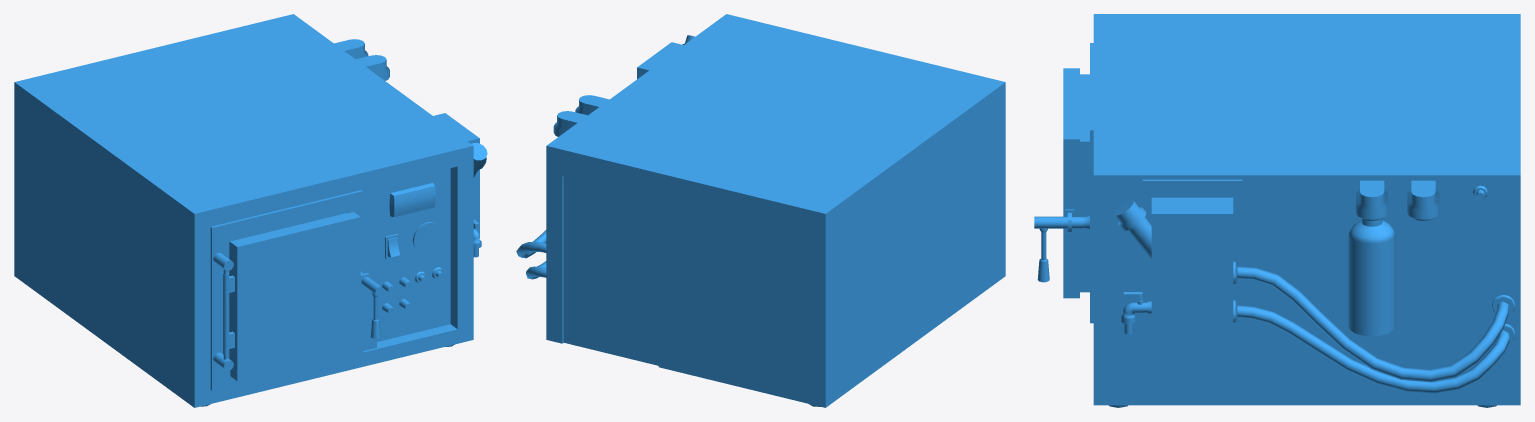
File: SM_Sterilizer_01a.FBX
3 views of the same model, side by side, from view 1: azimuth 30°, elevation 25°; view 2: azimuth 150°, elevation 25°; view 3: azimuth 270°, elevation 25° (orthographic). The views are drawn at different scales.
Visible parts, largest first — view 1: SM_Sterilizer_01a_LOD0; view 2: SM_Sterilizer_01a_LOD0; view 3: SM_Sterilizer_01a_LOD0.
Boxes of the visible parts, x1,y1,x2,y2 form: SM_Sterilizer_01a_LOD0: [14, 14, 487, 407]; SM_Sterilizer_01a_LOD0: [516, 14, 1005, 407]; SM_Sterilizer_01a_LOD0: [1034, 14, 1520, 407].
Size of what is drawn, in the model's own units: 73.44 by 41.82 by 77.62.
